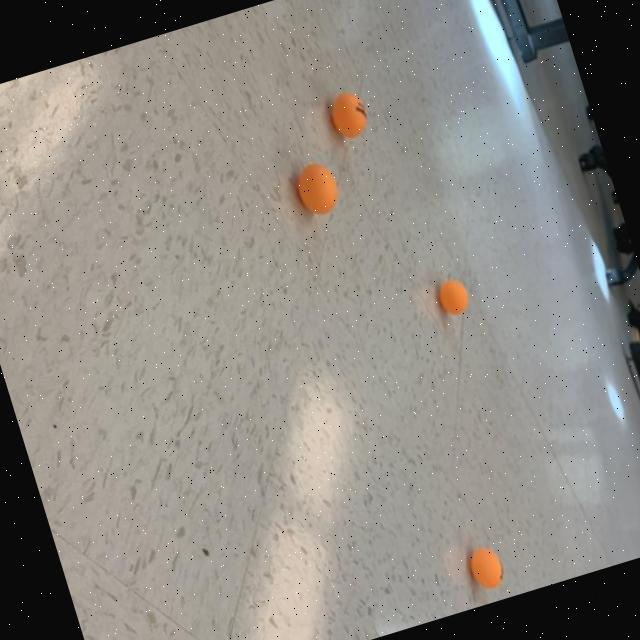ping-pong-ball: (284, 152, 346, 224), (459, 537, 512, 600), (322, 83, 374, 147), (430, 272, 474, 321)
